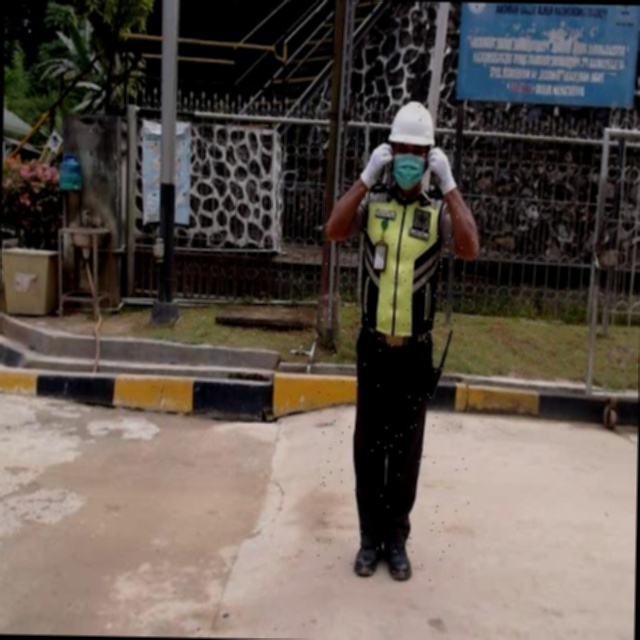boots: (250, 534, 283, 582), (224, 535, 252, 581)
gloves: (249, 140, 283, 190), (188, 147, 212, 191)
vest: (195, 189, 286, 342)
